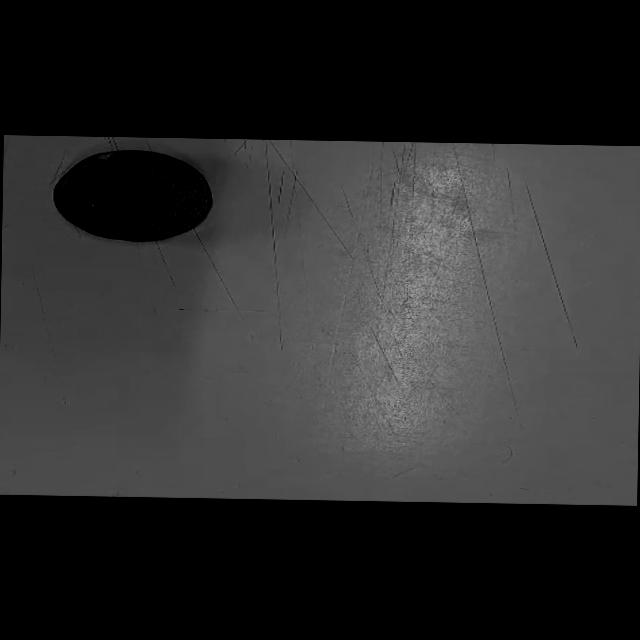rcircle: (53, 149, 213, 240)
